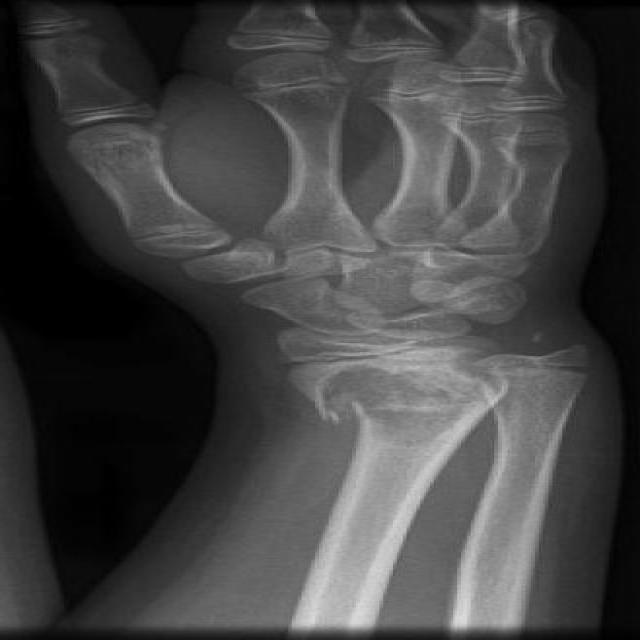pathological: (290, 336, 520, 454)
